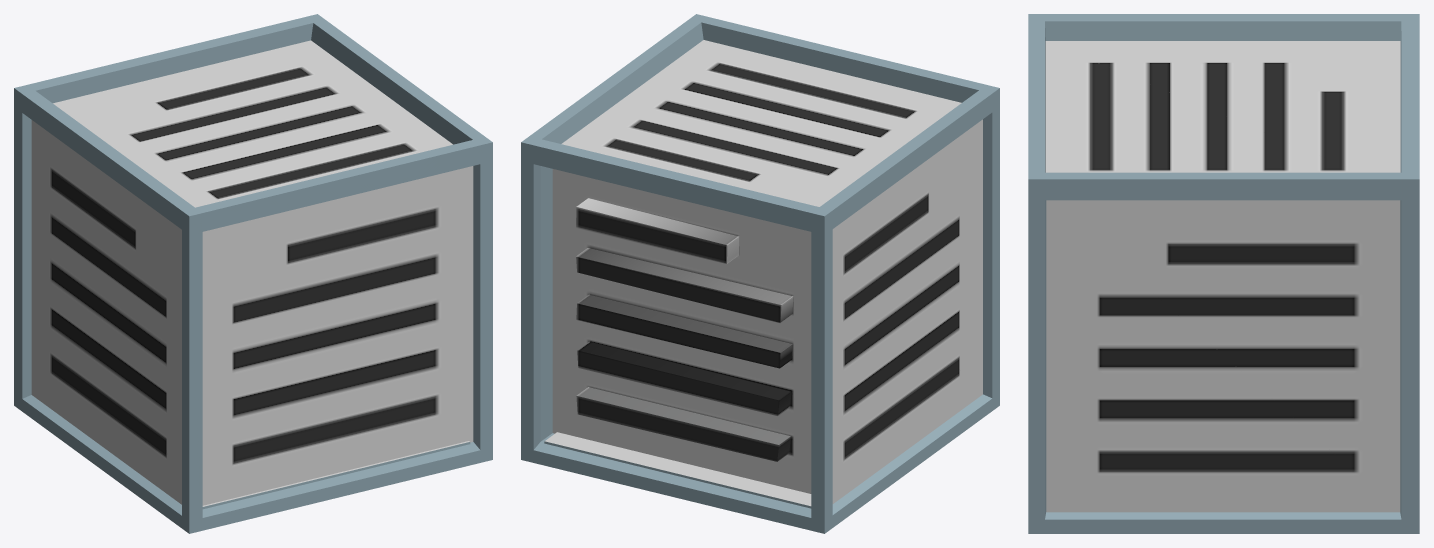
Rendered from txt.glb.
The picture shows the model from 3 angles, left to right: view 1: azimuth 30°, elevation 25°; view 2: azimuth 150°, elevation 25°; view 3: azimuth 270°, elevation 25°; orthographic projection. The views are drawn at different scales.
Visible parts, largest first — view 1: Cube; view 2: Cube; view 3: Cube.
Part boxes in pixels (left/top/right/bottom): Cube: left=14, top=14, right=492, bottom=533; Cube: left=521, top=14, right=999, bottom=533; Cube: left=1028, top=14, right=1419, bottom=533.
Bounding box in the file's own units: 2 × 2 × 2.
2 materials, 1 textured.
